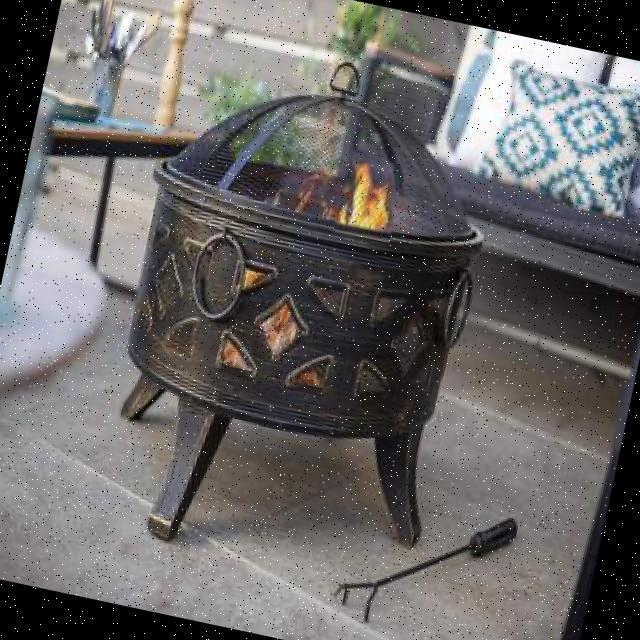fire: (333, 154, 405, 244)
